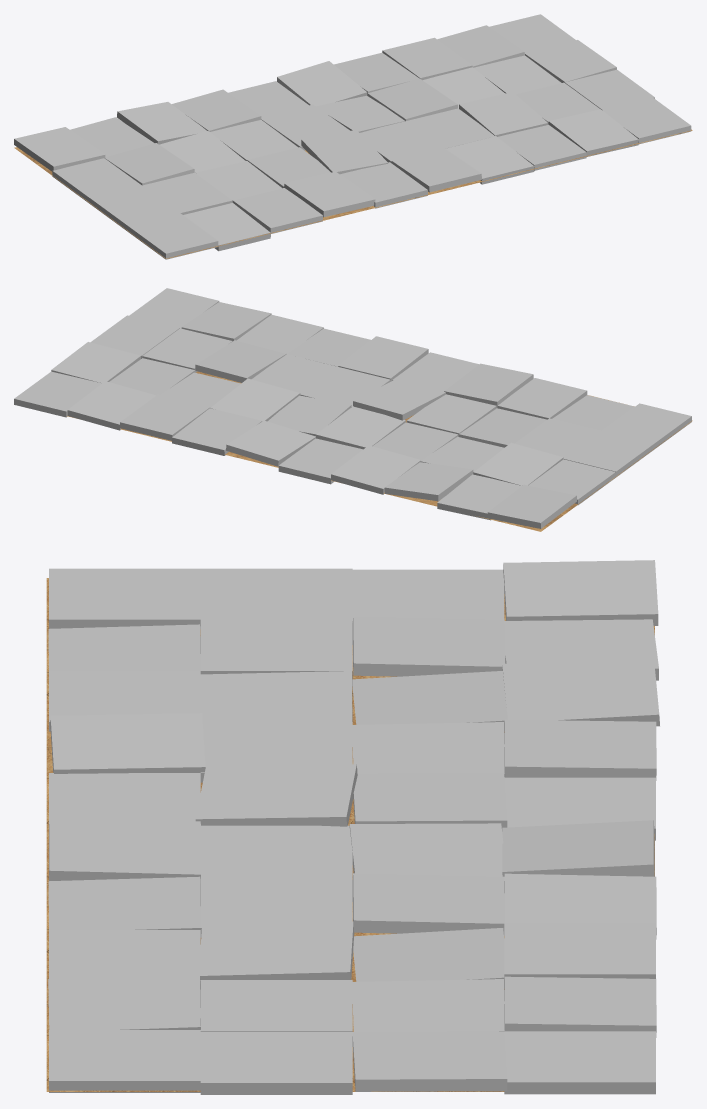
The model's file is Floor_Tiles_8m.fbx.
3 renders of one model, top to bottom at view 1: azimuth 30°, elevation 25°; view 2: azimuth 150°, elevation 25°; view 3: azimuth 270°, elevation 25°, orthographic. The views are drawn at different scales.
Parts seen in each view (by area): view 1: Geom_Floor_8m, Geom_Floor_Sand_8m; view 2: Geom_Floor_8m, Geom_Floor_Sand_8m; view 3: Geom_Floor_8m, Geom_Floor_Sand_8m.
Boxes of the visible parts, bbox=[...] form: Geom_Floor_8m: bbox=[14, 14, 691, 259]; Geom_Floor_Sand_8m: bbox=[14, 129, 692, 258]; Geom_Floor_8m: bbox=[14, 288, 691, 528]; Geom_Floor_Sand_8m: bbox=[67, 371, 692, 531]; Geom_Floor_8m: bbox=[48, 560, 659, 1094]; Geom_Floor_Sand_8m: bbox=[46, 578, 654, 1091].
Bounding box in the file's own units: 802 × 24.83 × 403.
